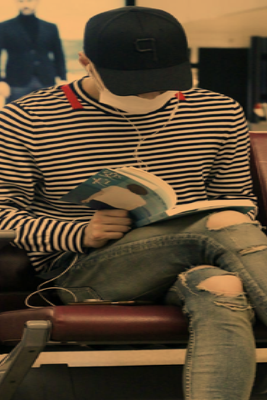mask_weared_incorrect: (93, 76, 174, 116)
